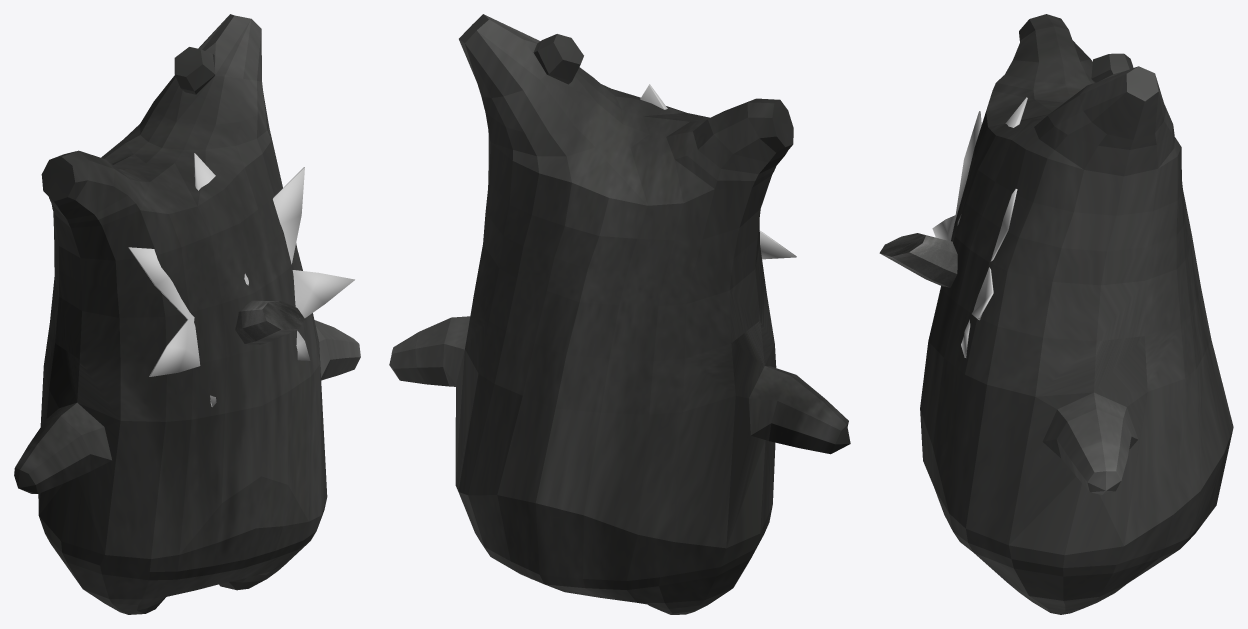
The model's file is frame_0029.obj.
3 views of the same model, side by side, from view 1: azimuth 30°, elevation 25°; view 2: azimuth 150°, elevation 25°; view 3: azimuth 270°, elevation 25° (orthographic). The views are drawn at different scales.
Visible parts, largest first — view 1: korok, leaf.003_柱体.013, nose.003_柱体.011; view 2: korok, leaf.003_柱体.013; view 3: korok, nose.003_柱体.011, leaf.003_柱体.013.
Boxes of the visible parts, bbox=[...] form: korok: bbox=[14, 14, 360, 614]; leaf.003_柱体.013: bbox=[128, 153, 354, 407]; nose.003_柱体.011: bbox=[235, 300, 305, 344]; korok: bbox=[389, 14, 850, 614]; leaf.003_柱体.013: bbox=[640, 84, 796, 259]; korok: bbox=[920, 14, 1233, 614]; nose.003_柱体.011: bbox=[879, 233, 957, 287]; leaf.003_柱体.013: bbox=[932, 97, 1027, 357].
Size of the model in its own units: 1.7 by 2.3 by 1.31.
